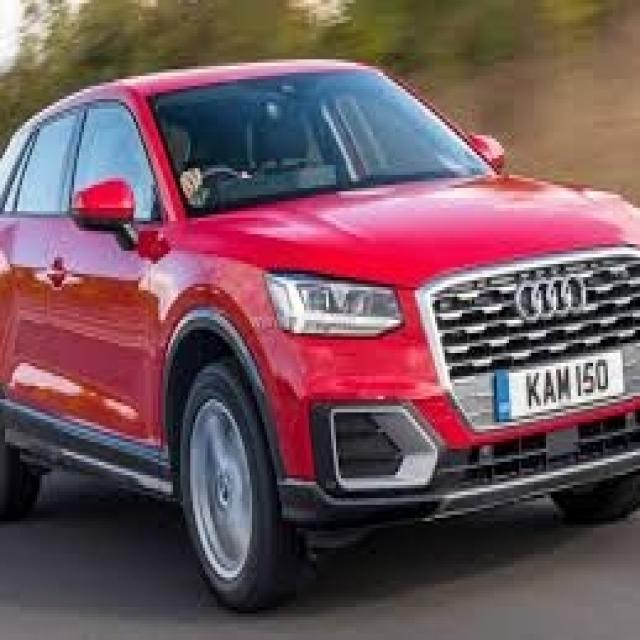red: (0, 66, 640, 538)
